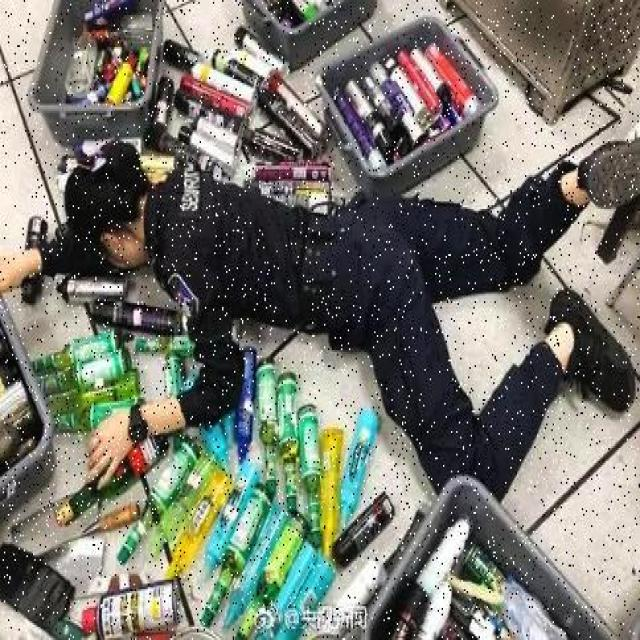fall: (61, 147, 608, 395)
